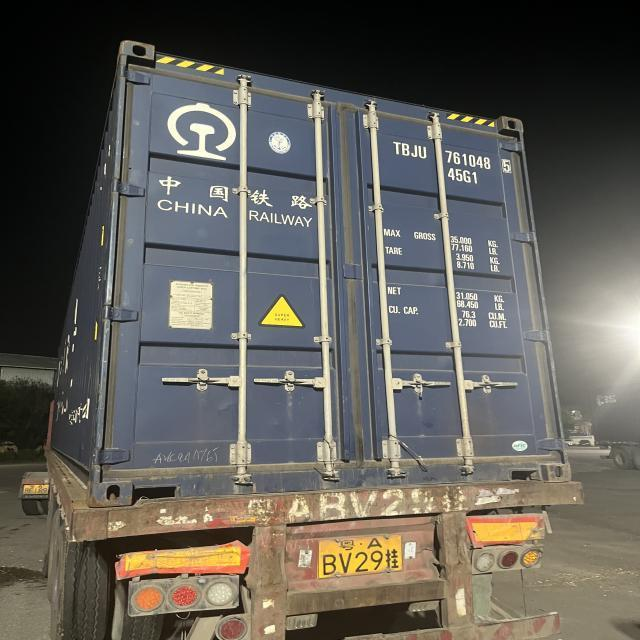ISO: (446, 167, 478, 185)
container_number: (394, 143, 516, 168)
